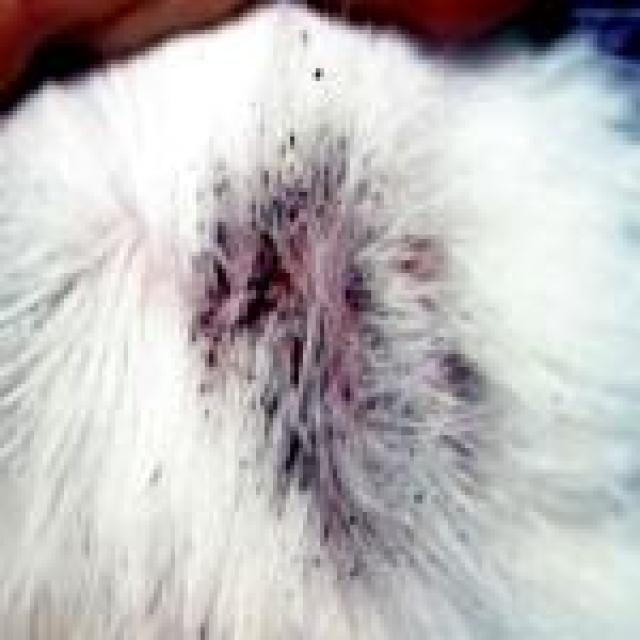fungal infection: (200, 152, 487, 574), (279, 48, 329, 105), (132, 463, 170, 492)
